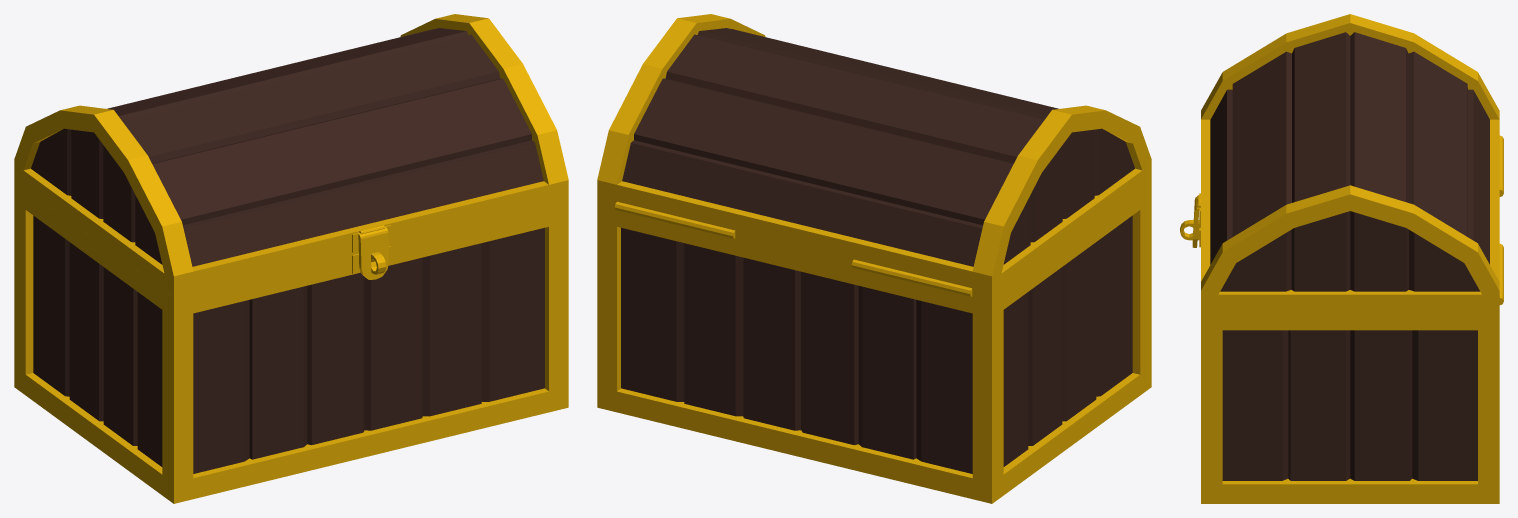
Rendered from Chest.fbx.
3 views of the same model, side by side, from view 1: azimuth 30°, elevation 25°; view 2: azimuth 150°, elevation 25°; view 3: azimuth 270°, elevation 25° (orthographic). The views are drawn at different scales.
Parts seen in each view (by area): view 1: Treasure Chest, Lid, Lock Flap; view 2: Treasure Chest, Lid; view 3: Lid, Treasure Chest.
Part boxes in pixels (box(x1,y1,x2,y2)): Treasure Chest: box(14, 181, 568, 503); Lid: box(14, 14, 568, 297); Lock Flap: box(358, 227, 388, 279); Treasure Chest: box(597, 181, 1151, 503); Lid: box(597, 14, 1151, 297); Lid: box(1201, 14, 1503, 310); Treasure Chest: box(1180, 135, 1503, 503).
Bounding box in the file's own units: 200 × 160 × 152.
